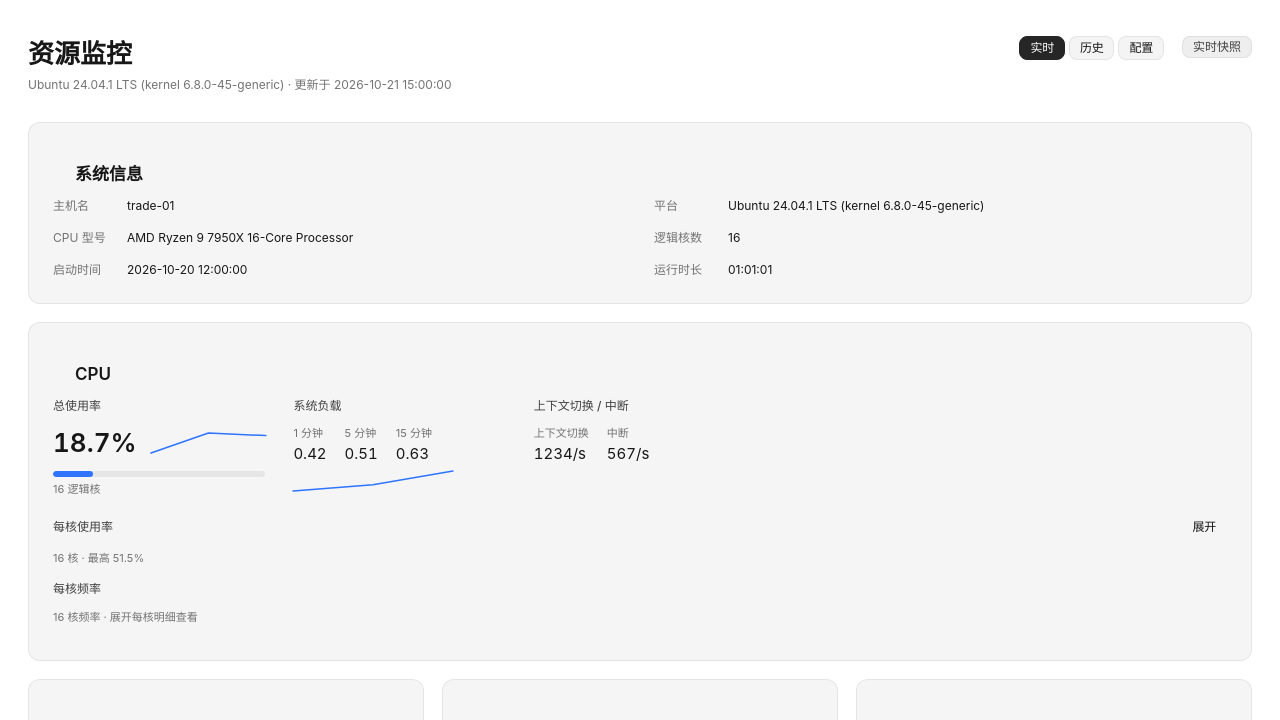
Test: MonitorView 卡片折叠（#127：维度明细默认收起） › 每核明细默认收起：只显示摘要（核数 + 最高使用率），点开展开后显示全部
This screenshot has width=1280, height=720.
Expected: the text with test id "monitor-cpu-detail-summary" reads "16 核 · 最高 51.5%", [53,551,144,565]
What coordinates should you click on to do the following:
click the button with test id "monitor-cpu-detail-toggle"
I would click on:
 (1204, 527)
Its box is [1182,515,1227,539].
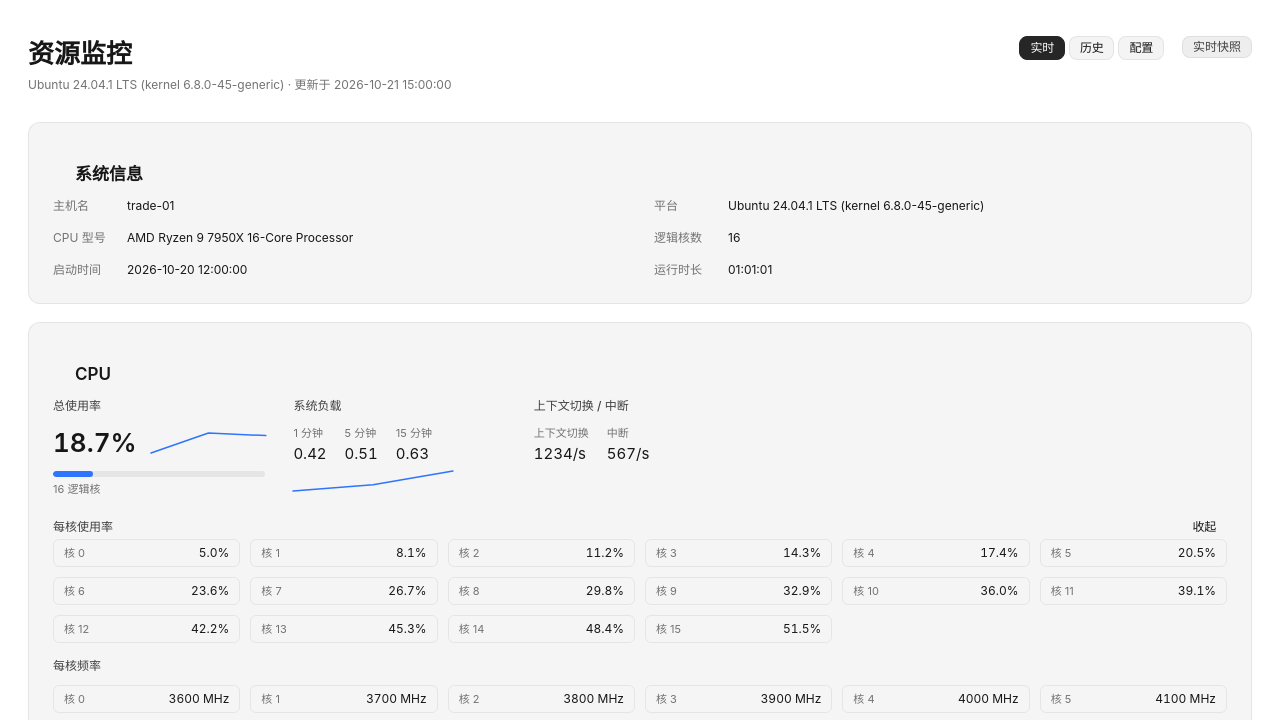
Now the number of list items with test id "monitor-core" is 16
Now the number of list items with test id "monitor-frequency-core" is 16
Now the button with test id "monitor-cpu-detail-toggle" is expanded
What coordinates should you click on to do the following:
click the button with test id "monitor-cpu-detail-toggle"
I would click on:
 (1204, 527)
Its box is [1182,515,1227,539].
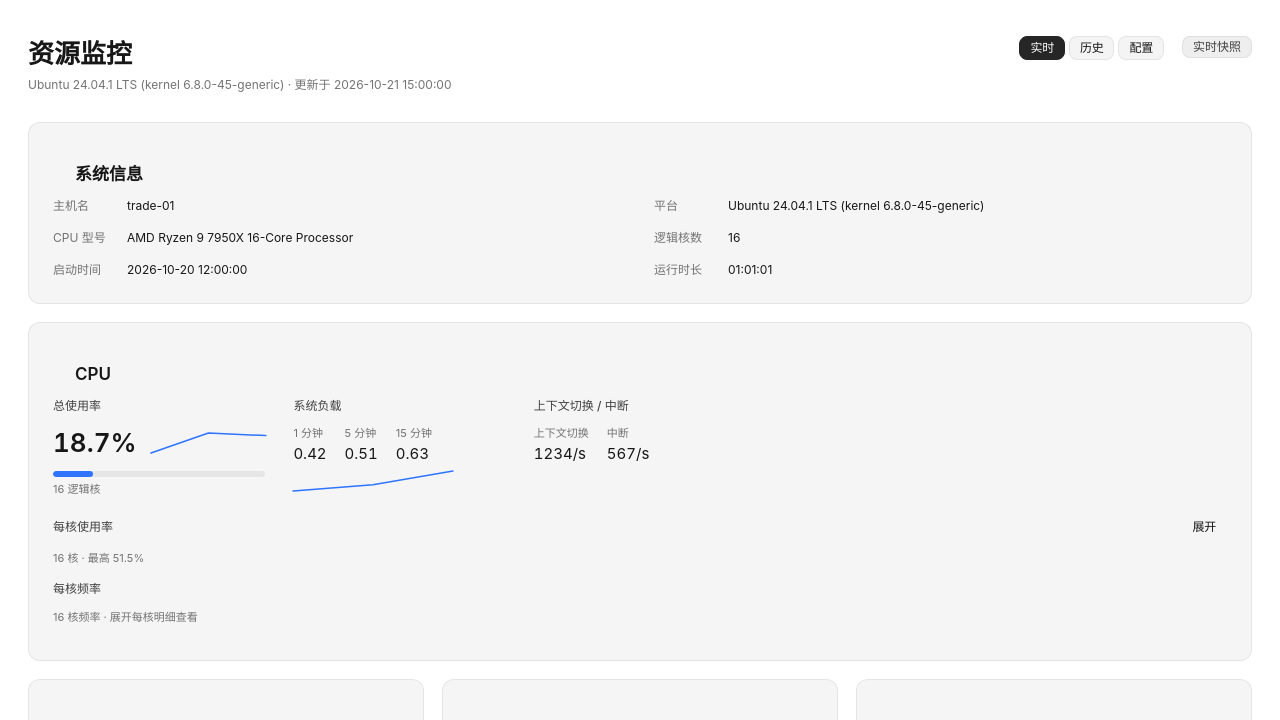
Now no list items with test id "monitor-core" are shown
